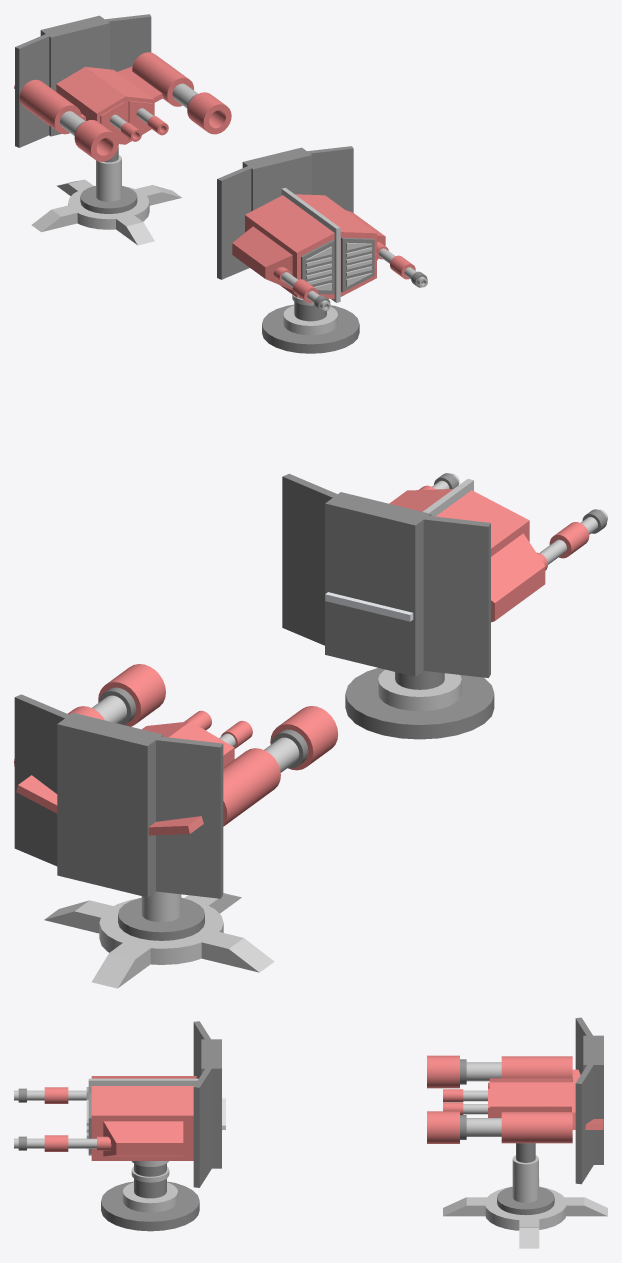
Rendered from Sub - Torret Fire Set 2.fbx.
The picture shows the model from 3 angles, top to bottom: view 1: azimuth 30°, elevation 25°; view 2: azimuth 150°, elevation 25°; view 3: azimuth 270°, elevation 25°; orthographic projection. The views are drawn at different scales.
Parts seen in each view (by area): view 1: mergedBlocks3.303, mergedBlocks5.095, mergedBlocks5.199, mergedBlocks3.127; view 2: mergedBlocks5.095, mergedBlocks3.303, mergedBlocks5.199, mergedBlocks3.127; view 3: mergedBlocks5.095, mergedBlocks3.303, mergedBlocks5.199, mergedBlocks3.127.
Boxes of the visible parts, x1,y1,x2,y2 form: mergedBlocks3.303: (217,146,427,311); mergedBlocks5.095: (14,14,231,161); mergedBlocks5.199: (31,147,181,245); mergedBlocks3.127: (262,294,359,353); mergedBlocks5.095: (14,664,338,898); mergedBlocks3.303: (282,473,607,677); mergedBlocks5.199: (44,891,274,988); mergedBlocks3.127: (345,668,494,739); mergedBlocks5.095: (427,1017,603,1184); mergedBlocks3.303: (14,1021,225,1187); mergedBlocks5.199: (443,1143,607,1248); mergedBlocks3.127: (101,1161,199,1231).
Bounding box in the file's own units: 935 × 401 × 1296.
